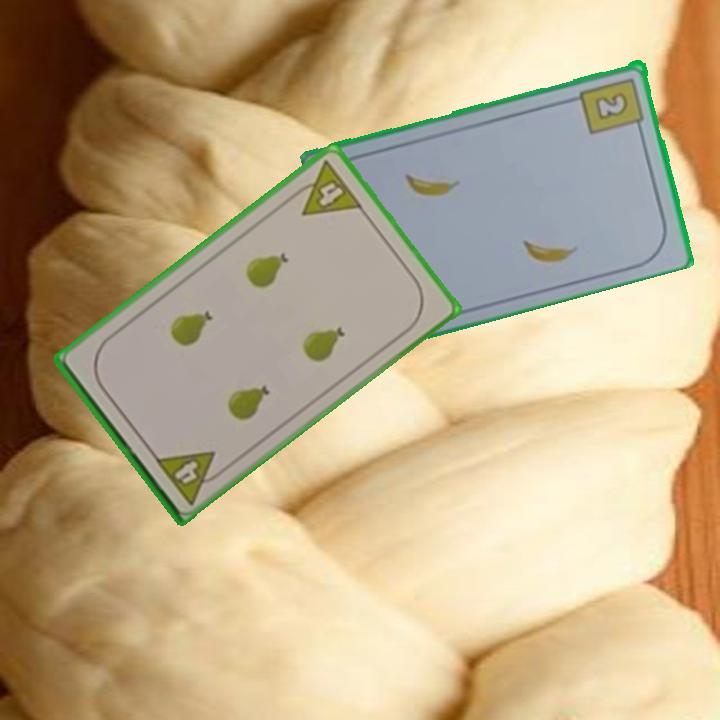2b: (577, 73, 648, 137)
4p: (286, 156, 366, 219), (151, 446, 229, 508)
